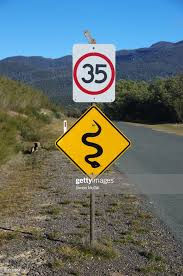sp35: (70, 48, 117, 100)
